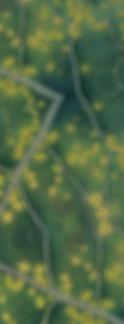Tomato leaf bacterial spot: (0, 52, 124, 272)
